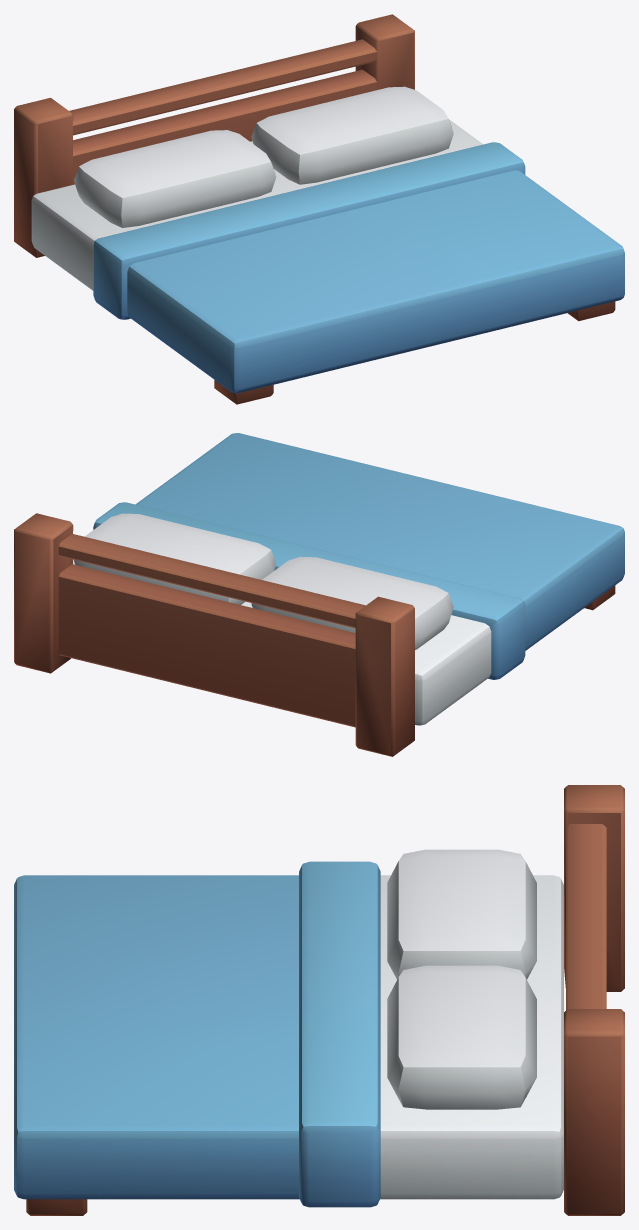
The model's file is kay-cama-casal.gltf.
3 renders of one model, top to bottom at view 1: azimuth 30°, elevation 25°; view 2: azimuth 150°, elevation 25°; view 3: azimuth 270°, elevation 25°, orthographic. The views are drawn at different scales.
Parts seen in each view (by area): view 1: bed_double_A; view 2: bed_double_A; view 3: bed_double_A.
Boxes of the visible parts, x1,y1,x2,y2 form: bed_double_A: [14, 14, 624, 404]; bed_double_A: [14, 433, 624, 756]; bed_double_A: [14, 785, 624, 1215].
Size of the model in its own units: 2.01 by 0.6499 by 1.95.
1 material, 1 textured.
